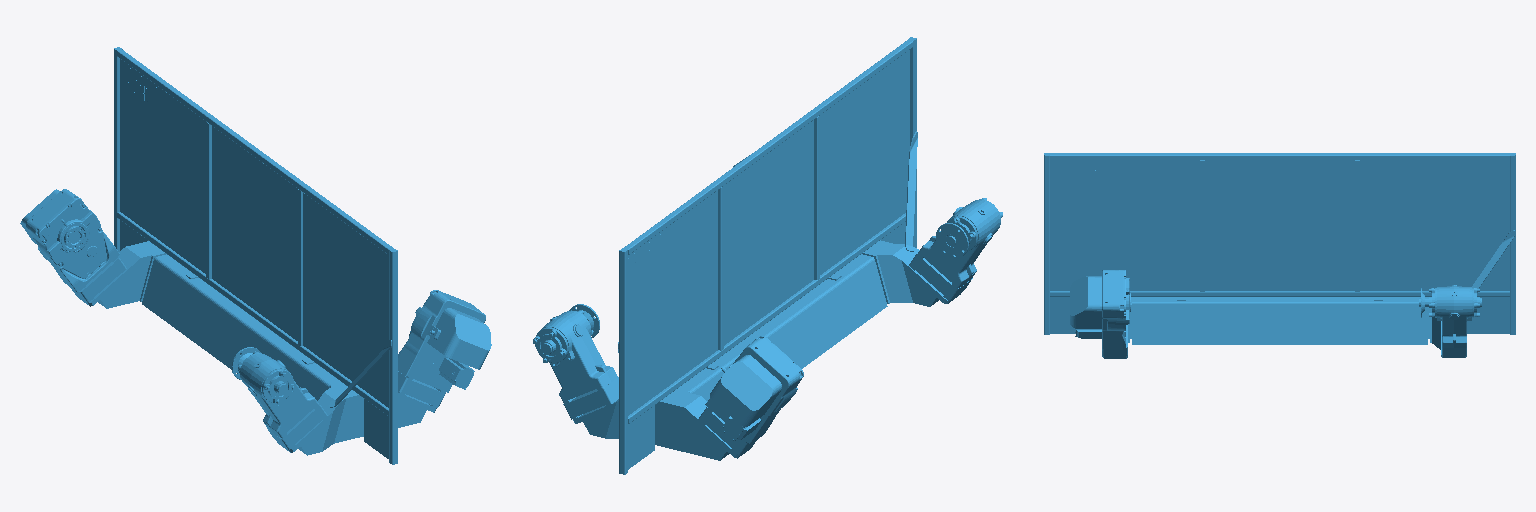
robot.urdf — Irbpr_1000_D1200_L2000_IRC5_rev02_CAD:
<?xml version="1.0" ?>
<robot name="Irbpr_1000_D1200_L2000_IRC5_rev02_CAD">

<link name="base_link">
  <inertial>
    <origin xyz="0.49942799226897755 -0.8001229419246555 0.2144161537636066" rpy="0 0 0"/>
    <mass value="1310.529268653801"/>
    <inertia ixx="51.101779" iyy="82.104536" izz="91.002172" ixy="-0.063502" iyz="-0.013077" ixz="-0.95022"/>
  </inertial>
  <visual>
    <origin xyz="0 0 0" rpy="0 0 0"/>
    <geometry>
      <mesh filename="meshes/base_link.stl" scale="0.001 0.001 0.001"/>
    </geometry>
  </visual>
  <collision>
    <origin xyz="0 0 0" rpy="0 0 0"/>
    <geometry>
      <mesh filename="meshes/base_link.stl" scale="0.001 0.001 0.001"/>
    </geometry>
  </collision>
</link>

<link name="Component8_1">
  <inertial>
    <origin xyz="-3.2894418474649356e-06 0.0003456912229030662 0.3065328913256987" rpy="0 0 0"/>
    <mass value="3410.6199546478297"/>
    <inertia ixx="3840.741736" iyy="722.367652" izz="4153.023051" ixy="307.90971" iyz="0.333615" ixz="0.00275"/>
  </inertial>
  <visual>
    <origin xyz="-0.587404 0.8 -0.481" rpy="0 0 0"/>
    <geometry>
      <mesh filename="meshes/Component8_1.stl" scale="0.001 0.001 0.001"/>
    </geometry>
  </visual>
  <collision>
    <origin xyz="-0.587404 0.8 -0.481" rpy="0 0 0"/>
    <geometry>
      <mesh filename="meshes/Component8_1.stl" scale="0.001 0.001 0.001"/>
    </geometry>
  </collision>
</link>

<link name="Component5_1">
  <inertial>
    <origin xyz="0.0005860580043299812 -0.018632134399173772 0.0009458256378480634" rpy="0 0 0"/>
    <mass value="21.25030383337669"/>
    <inertia ixx="0.230554" iyy="0.446816" izz="0.229292" ixy="0.000307" iyz="0.000495" ixz="-0.00127"/>
  </inertial>
  <visual>
    <origin xyz="-1.227489 1.8 -1.034998" rpy="0 0 0"/>
    <geometry>
      <mesh filename="meshes/Component5_1.stl" scale="0.001 0.001 0.001"/>
    </geometry>
  </visual>
  <collision>
    <origin xyz="-1.227489 1.8 -1.034998" rpy="0 0 0"/>
    <geometry>
      <mesh filename="meshes/Component5_1.stl" scale="0.001 0.001 0.001"/>
    </geometry>
  </collision>
</link>

<link name="Component6_1">
  <inertial>
    <origin xyz="-0.0005858114643134266 0.01863213439949385 0.0009458256381305041" rpy="0 0 0"/>
    <mass value="21.250303833372293"/>
    <inertia ixx="0.230554" iyy="0.446816" izz="0.229292" ixy="0.000307" iyz="-0.000495" ixz="0.00127"/>
  </inertial>
  <visual>
    <origin xyz="0.052681 -0.2 -1.034998" rpy="0 0 0"/>
    <geometry>
      <mesh filename="meshes/Component6_1.stl" scale="0.001 0.001 0.001"/>
    </geometry>
  </visual>
  <collision>
    <origin xyz="0.052681 -0.2 -1.034998" rpy="0 0 0"/>
    <geometry>
      <mesh filename="meshes/Component6_1.stl" scale="0.001 0.001 0.001"/>
    </geometry>
  </collision>
</link>

<joint name="j1" type="continuous">
  <origin xyz="0.587404 -0.8 0.481" rpy="0 0 0"/>
  <parent link="base_link"/>
  <child link="Component8_1"/>
  <axis xyz="-0.0 -0.0 -1.0"/>
</joint>

<joint name="j2" type="continuous">
  <origin xyz="0.640085 -1.0 0.553998" rpy="0 0 0"/>
  <parent link="Component8_1"/>
  <child link="Component5_1"/>
  <axis xyz="0.0 -1.0 0.0"/>
</joint>

<joint name="j3" type="continuous">
  <origin xyz="-0.640085 1.0 0.553998" rpy="0 0 0"/>
  <parent link="Component8_1"/>
  <child link="Component6_1"/>
  <axis xyz="-0.0 1.0 -0.0"/>
</joint>


</robot>

--- Facts derived from the render (not from the file) ---
The picture shows the robot from 3 angles, left to right: view 1: azimuth 30°, elevation 25°; view 2: azimuth 150°, elevation 25°; view 3: azimuth 270°, elevation 25°; orthographic projection.
Model Irbpr_1000_D1200_L2000_IRC5_rev02_CAD with 4 links and 3 joints (3 continuous), rooted at base_link, posed every joint at zero.
Links seen in each view (by area): view 1: Component8_1; view 2: Component8_1; view 3: Component8_1.
Boxes of the visible links, x1,y1,x2,y2 form: Component8_1: [20, 47, 491, 464]; Component8_1: [533, 37, 1002, 474]; Component8_1: [1044, 153, 1515, 358].
Size in the robot's own frame: 1.75 by 3.35 by 1.42 metres.
Meshes: 4 distinct files referenced, 1 mesh visuals loaded (1 binary STL); not drawn: 3 (reference not matched to a file when rendering).